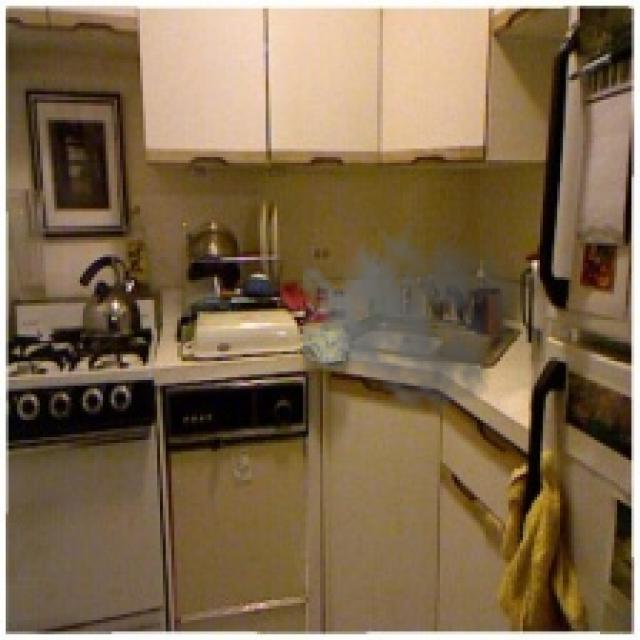smoke: (303, 209, 523, 420)
